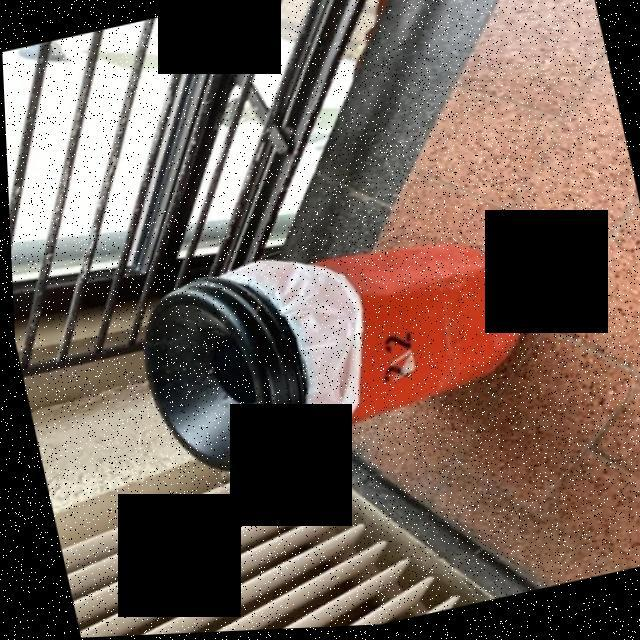bin: (71, 193, 571, 518)
